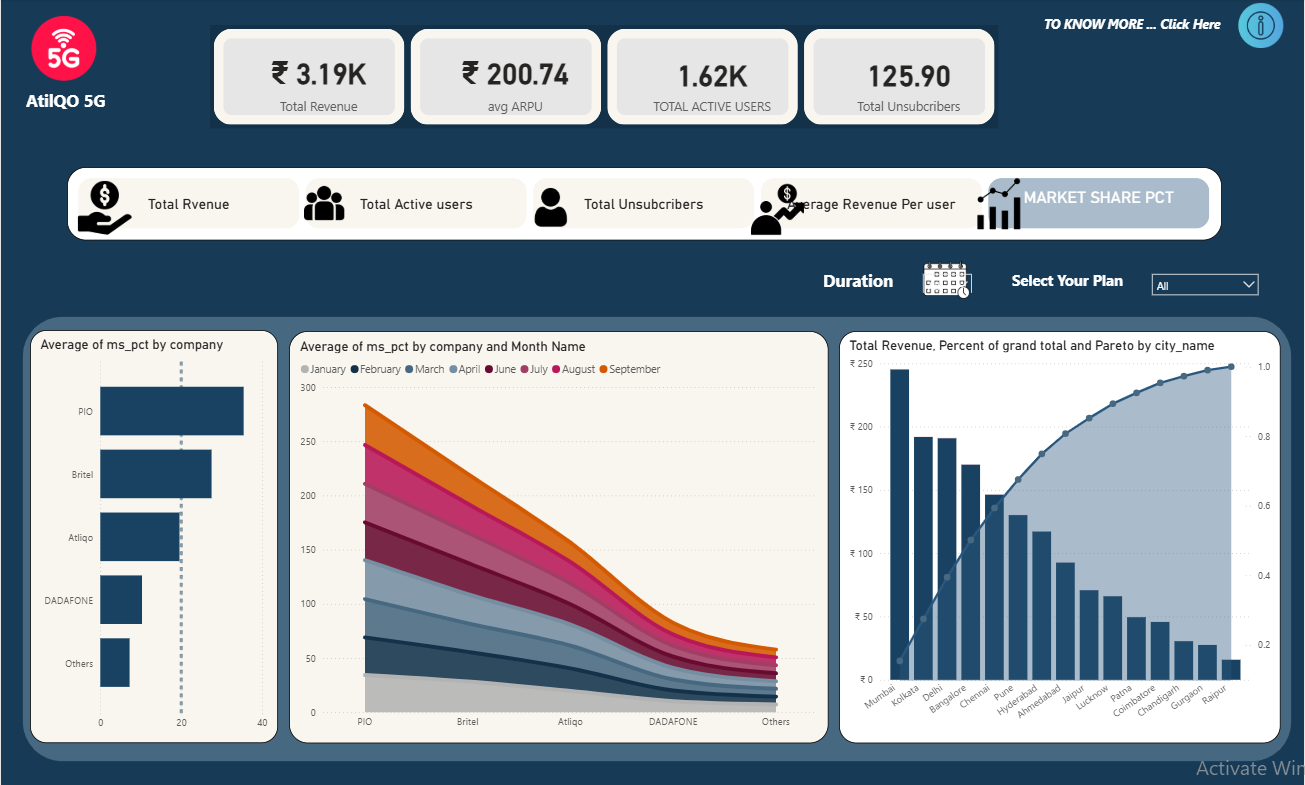

This screenshot's page, from the dashboard's own definition file:
{"tool":"powerbi","page":{"name":"Market Share","canvas":[1650,1000],"ordinal":1},"visuals":[{"type":"clusteredBarChart","fields":{"Category":["fact_market_share.company"],"Y":["Sum(fact_market_share.ms_pct)"],"Series":["dim_date.before/after_5g"]},"box":[36.8,416.9,314.7,523.2],"z":0},{"type":"card","fields":{"Values":["Measures (2).Total Rvenue"]},"box":[230.4,7.6,240.5,153.2],"z":1000},{"type":"card","fields":{"Values":["Measures (2).Average Revenue Per user"]},"box":[510.2,8,267.1,153.6],"z":2000},{"type":"card","fields":{"Values":["Measures (2).Total Active users"]},"box":[809.4,8,269.8,153.6],"z":3000},{"type":"textbox","box":[27.1,108.3,133.8,38.2],"z":4000},{"type":"advancedSlicerVisual","fields":{"Values":["Parameter.Parameter"]},"box":[83.1,212.6,1462,92.7],"z":5000},{"type":"image","box":[68.1,224.8,125.4,77.7],"z":6000},{"type":"image","box":[931,212.1,104.2,75.5],"z":7000},{"type":"image","box":[665,233.7,62.9,59.3],"z":8000},{"type":"image","box":[364.9,228.3,88.1,61.1],"z":9000},{"type":"image","box":[27.1,15.9,106.7,92.4],"z":10000},{"type":"slicer","fields":{"Values":["fact_plan_revenue.plans"]},"box":[1447,337.9,155.3,47.7],"z":11000},{"type":"textbox","box":[1275.3,337.9,156.7,47.7],"z":12000},{"type":"image","box":[1132.2,313.4,130.8,83.1],"z":13000},{"type":"textbox","box":[1035.5,318.8,121.3,66.8],"z":14000},{"type":"slicer","fields":{"Values":["dim_date.before/after_5g"]},"box":[1156.8,337.9,81.8,34.1],"z":15000},{"type":"textbox","box":[1314.8,16.4,264.3,35.4],"z":16000},{"type":"image","box":[1539.6,0,110.4,66.8],"z":17000},{"type":"shape","box":[26.6,401.3,1607.6,564.6],"z":18000},{"type":"clusteredBarChart","fields":{"Category":["fact_market_share.company"],"Y":["Sum(fact_market_share.ms_pct)"]},"box":[36.7,419,313.9,522.8],"z":19000},{"type":"stackedAreaChart","fields":{"Category":["fact_market_share.company"],"Y":["Avg(fact_market_share.ms_pct)"],"Series":["fact_market_share.Month Name"]},"box":[364.6,417.7,600,524.1],"z":20000},{"type":"tableEx","fields":{"Values":["dim_cities.city_name","Measures (2).Total Rvenue","Measures (2).PY MONTH REVENUE","Measures (2).MOM% REVENUE","Measures (2).Average Revenue Per user","Measures (2).Af.5G AvG Rev Per user","Measures (2).MOM% Avg Rev Per User","Measures (2).BEFORE 5G Active users","Measures (2).After 5G Active users","Measures (2).MOM% Active Users"]},"box":[999.3,417,616.5,508.7],"z":21000},{"type":"image","box":[1207.8,217.5,111.4,82.7],"z":22000}]}

Visuals, with their boxes in screenshot pixels (x1, y1, x2, y2), scaled from the page's 1650x1000 canvas onto the 1305x785 screenshot:
clusteredBarChart - fact_market_share.company x Sum(fact_market_share.ms_pct): {"left": 29, "top": 327, "right": 278, "bottom": 738}
card - Measures (2).Total Rvenue: {"left": 182, "top": 6, "right": 372, "bottom": 126}
card - Measures (2).Average Revenue Per user: {"left": 404, "top": 6, "right": 615, "bottom": 127}
card - Measures (2).Total Active users: {"left": 640, "top": 6, "right": 854, "bottom": 127}
textbox: {"left": 21, "top": 85, "right": 127, "bottom": 115}
advancedSlicerVisual - Parameter.Parameter: {"left": 66, "top": 167, "right": 1222, "bottom": 240}
image: {"left": 54, "top": 176, "right": 153, "bottom": 237}
image: {"left": 736, "top": 166, "right": 819, "bottom": 226}
image: {"left": 526, "top": 183, "right": 576, "bottom": 230}
image: {"left": 289, "top": 179, "right": 358, "bottom": 227}
image: {"left": 21, "top": 12, "right": 106, "bottom": 85}
slicer - fact_plan_revenue.plans: {"left": 1144, "top": 265, "right": 1267, "bottom": 303}
textbox: {"left": 1009, "top": 265, "right": 1133, "bottom": 303}
image: {"left": 895, "top": 246, "right": 999, "bottom": 311}
textbox: {"left": 819, "top": 250, "right": 915, "bottom": 303}
slicer - dim_date.before/after_5g: {"left": 915, "top": 265, "right": 980, "bottom": 292}
textbox: {"left": 1040, "top": 13, "right": 1249, "bottom": 41}
image: {"left": 1218, "top": 0, "right": 1304, "bottom": 52}
shape: {"left": 21, "top": 315, "right": 1293, "bottom": 758}
clusteredBarChart - fact_market_share.company x Sum(fact_market_share.ms_pct): {"left": 29, "top": 329, "right": 277, "bottom": 739}
stackedAreaChart - fact_market_share.company x Avg(fact_market_share.ms_pct): {"left": 288, "top": 328, "right": 763, "bottom": 739}
tableEx - dim_cities.city_name x Measures (2).Total Rvenue: {"left": 790, "top": 327, "right": 1278, "bottom": 727}
image: {"left": 955, "top": 171, "right": 1043, "bottom": 236}
